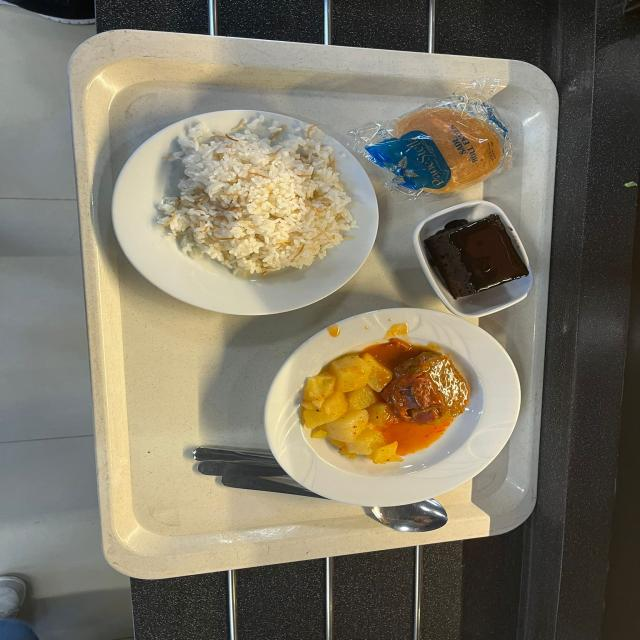ana_yemek: (110, 109, 373, 308), (265, 314, 518, 507)
yan_yemek: (411, 202, 532, 313)
